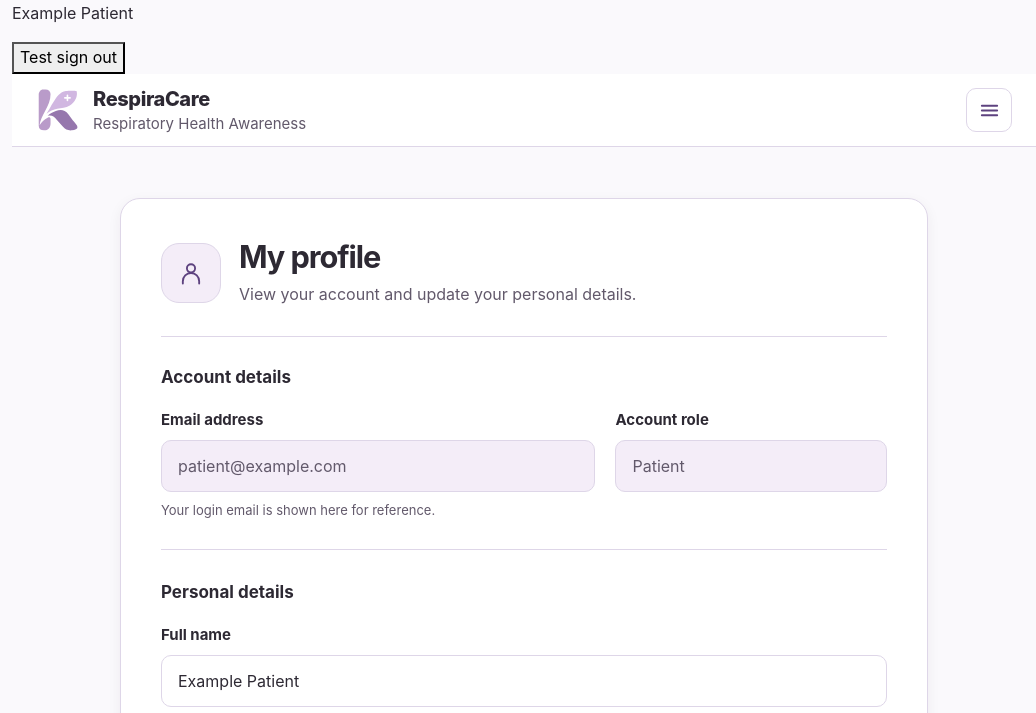
Test case: editable account profile › saves normalised details and updates the authentication context
Replace the text in the field labelled "Full name" with "  Updated   Patient  " at (524, 681), box [161,655,887,707]
(page scrolled)
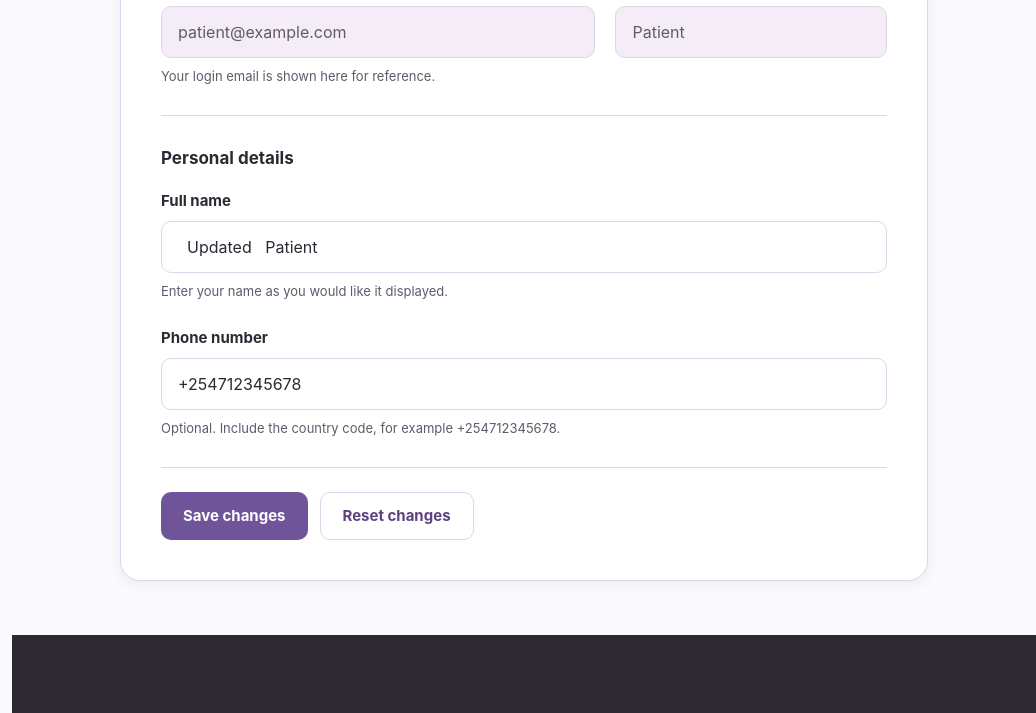
Replace the text in the field labelled "Phone number" with "+254 722-345-678" at (524, 384), box [161,358,887,410]
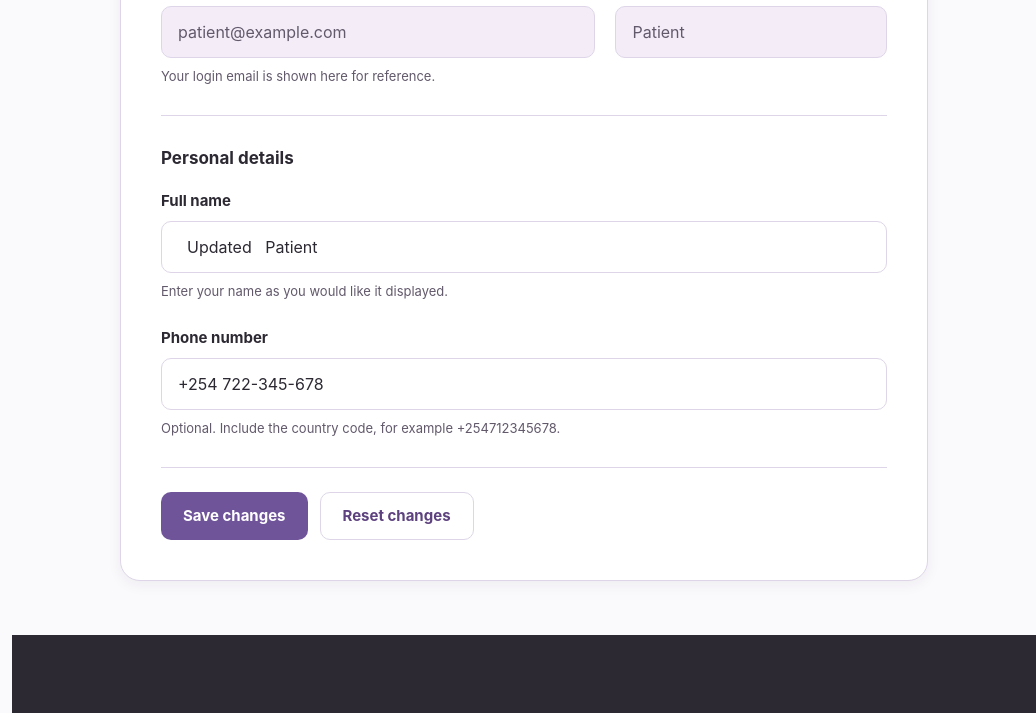
Click the button "Save changes" at (234, 516), box [161,492,308,540]
(page scrolled)
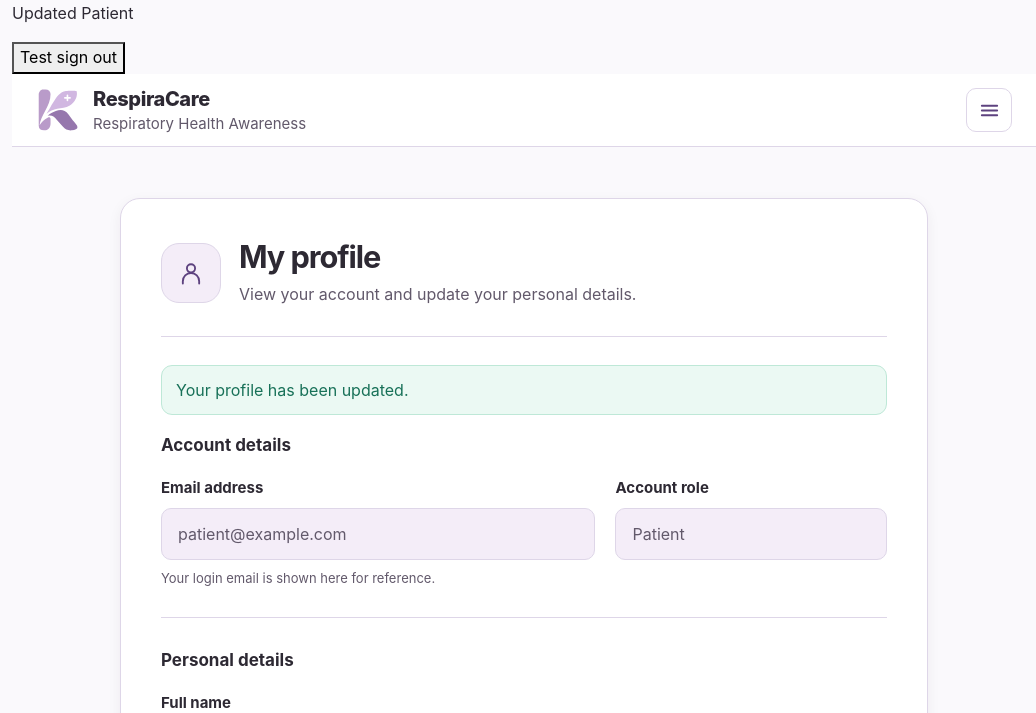
Now the text "Your profile has been updated." is shown, box [161,365,887,415]
Now the text with test id "session-name" reads "Updated Patient", box [12,3,134,23]
